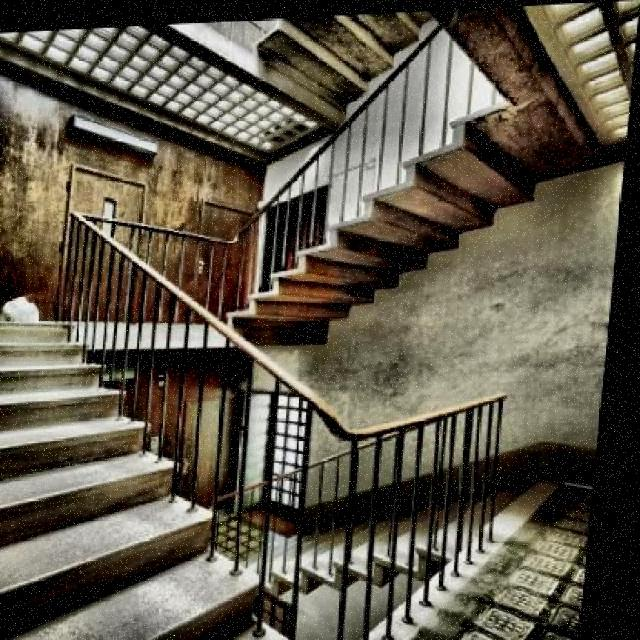stair: (1, 214, 344, 638)
